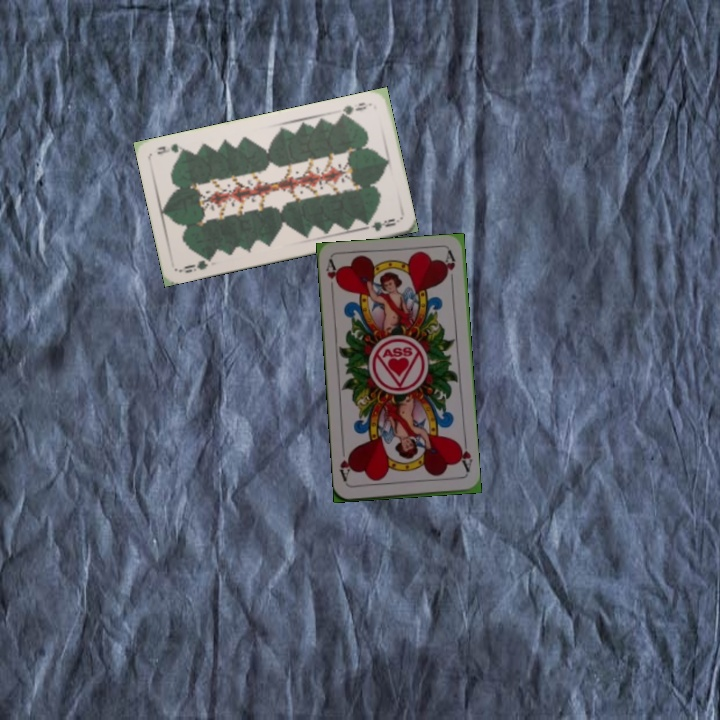G9: (176, 253, 215, 276), (335, 98, 374, 120)
HA: (454, 437, 475, 477), (321, 257, 342, 297)
